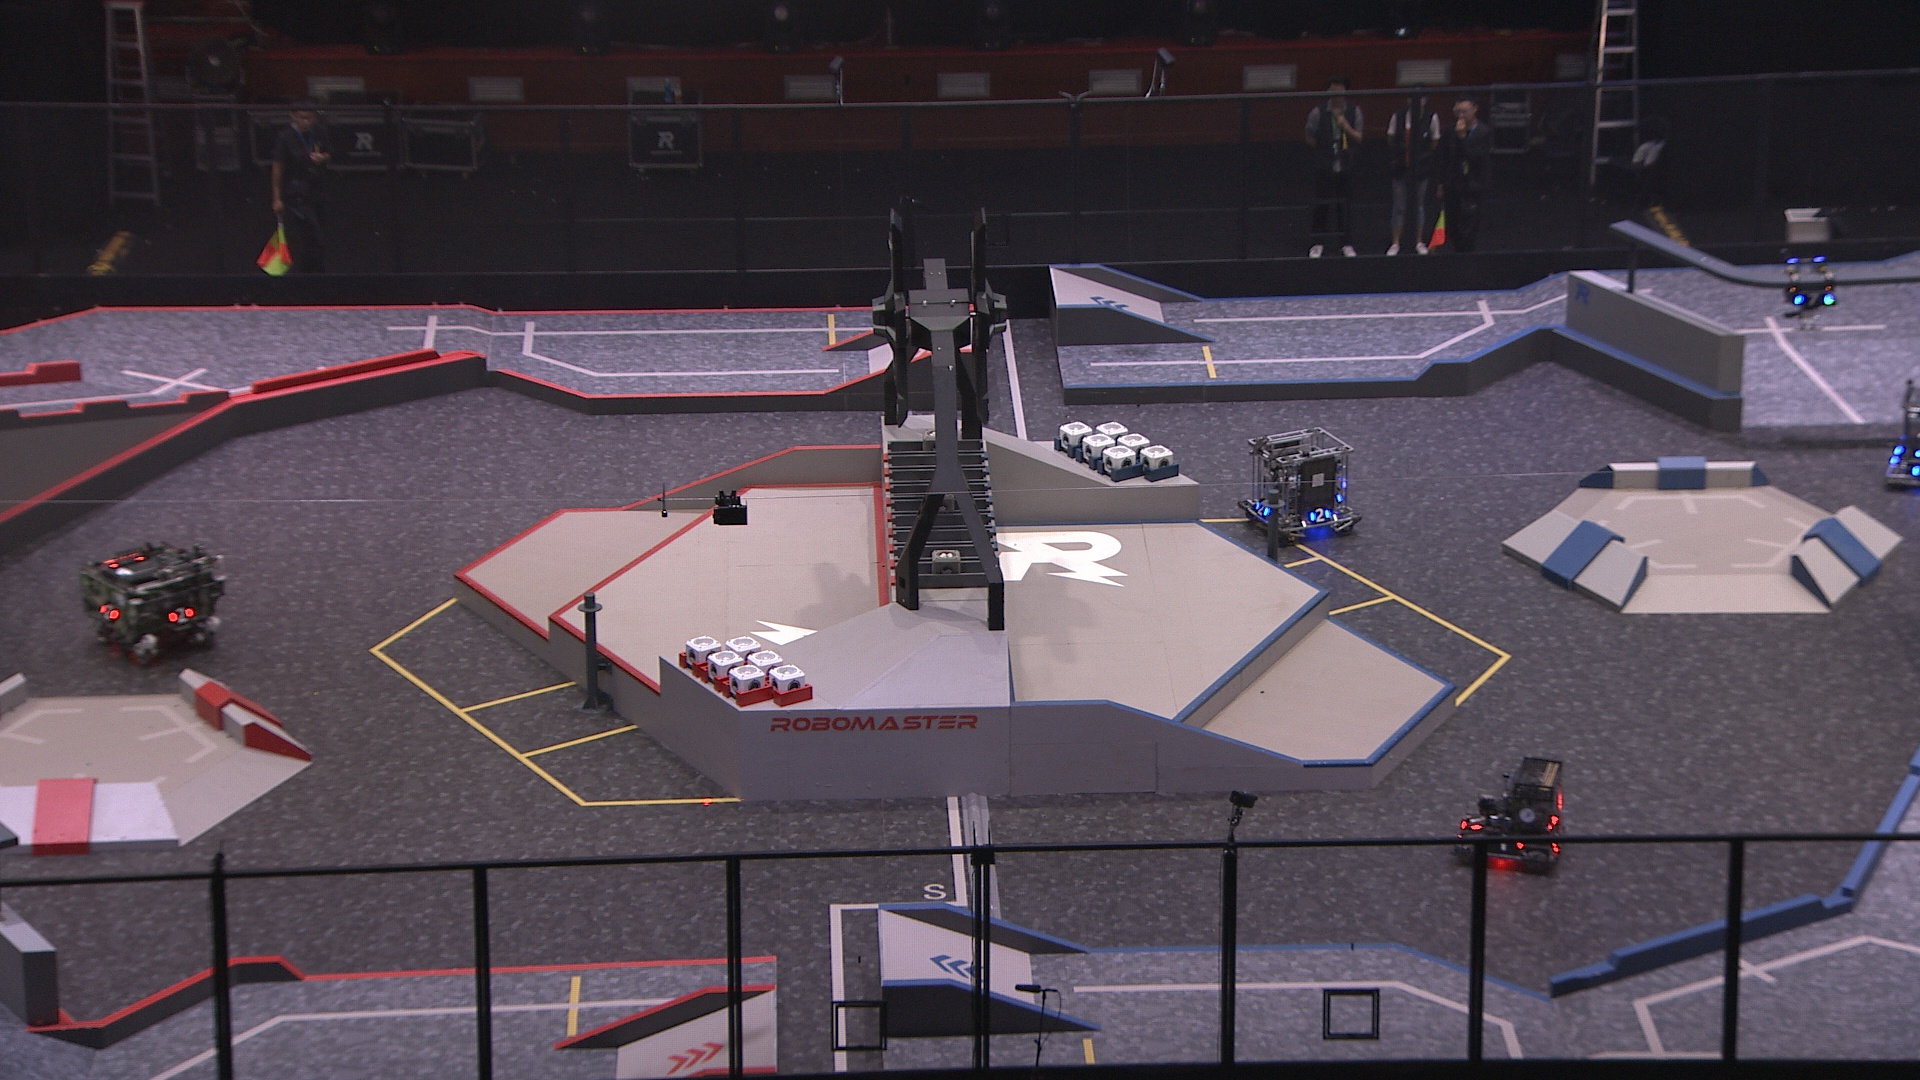armor: (1789, 290, 1836, 309), (1491, 831, 1524, 855), (166, 603, 195, 626), (98, 600, 121, 621), (1307, 505, 1333, 524), (1466, 808, 1487, 831), (1250, 498, 1271, 520)
car: (78, 542, 225, 669), (1238, 425, 1364, 541), (1453, 754, 1569, 874), (1879, 376, 1920, 496)
watcher: (1778, 245, 1840, 328)
